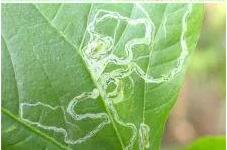liriomyza: (18, 1, 192, 150)
